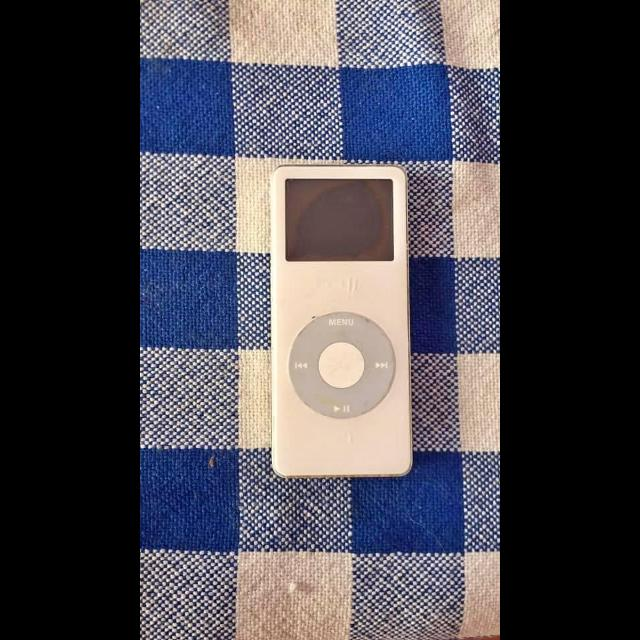Music-Player: (266, 148, 419, 492)
